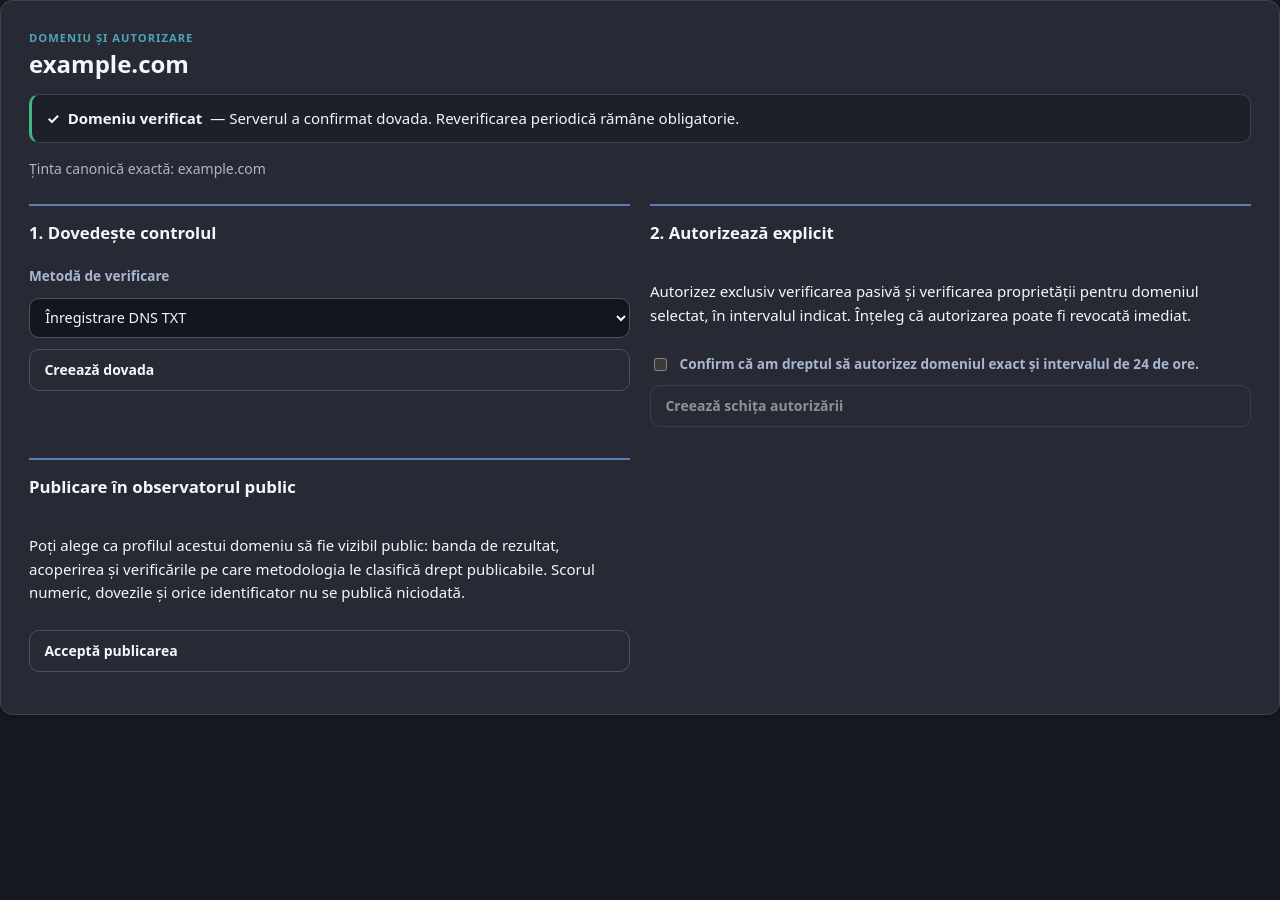
domain verification and authorization flow › shows server state, explicit consent, and one-time verification instructions
Check: the text "Domeniu verificat" is shown, box x1=68 y1=107 x2=202 y2=130
Check: the text "Autorizez exclusiv verificarea pasivă" is shown, box x1=650 y1=281 x2=1199 y2=325
Click the button "Creează dovada".
click(99, 370)  # box x1=29 y1=349 x2=630 y2=391
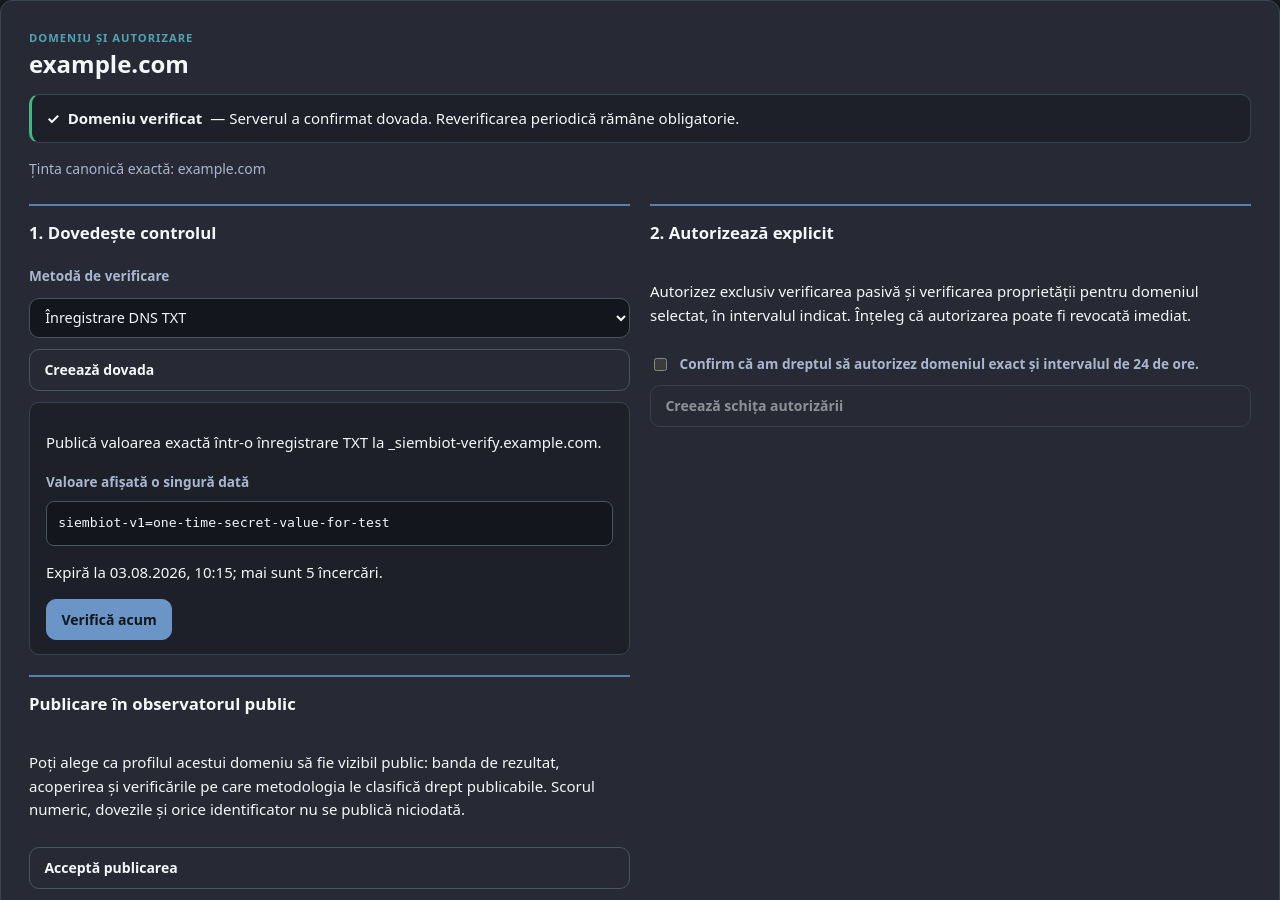
Check: the text "siembiot-v1=one-time-secret-value-for-test" is shown, box x1=46 y1=501 x2=613 y2=546
Check: the text "înregistrare TXT" is shown, box x1=46 y1=432 x2=602 y2=452
Check: the text "Expiră la 03.08.2026, 10:15; mai sunt 5 încercări." is shown, box x1=46 y1=562 x2=383 y2=582
